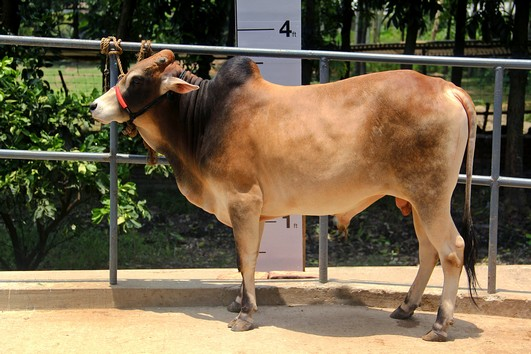cow: (84, 41, 485, 340)
